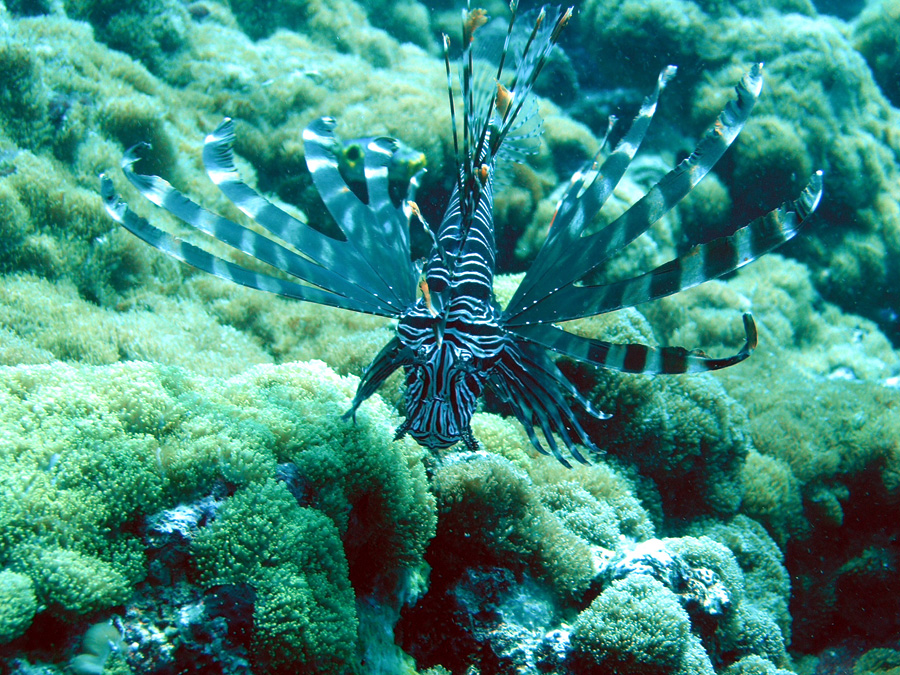Pterois_volitans: (155, 7, 803, 466)
